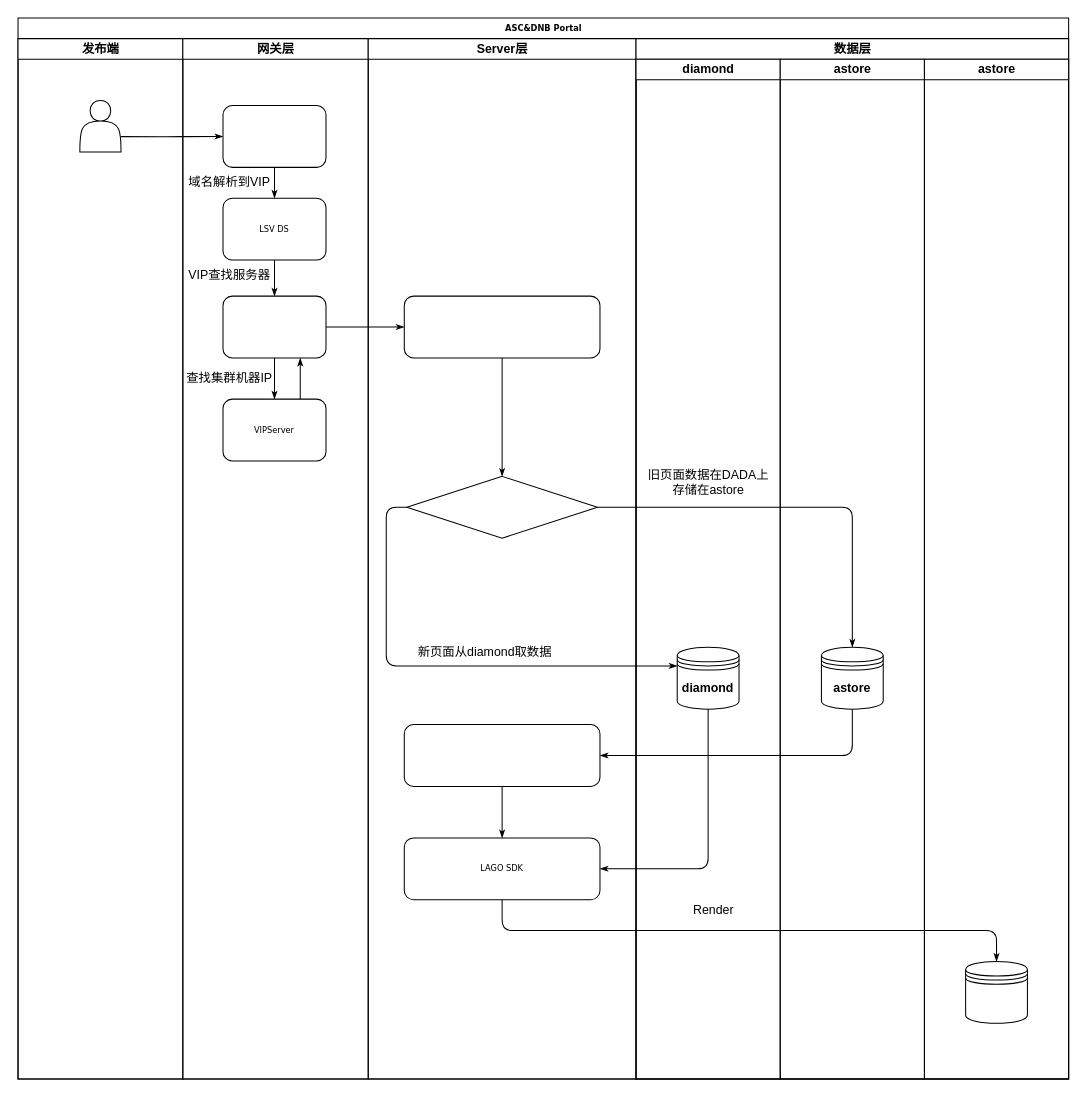
Image size: 1087x1097. Some labels were removed from this diagram. Here are the shapes that lost their labels. From the top down, the centre of each, then its label:
At point 274,136: "ALiDNS".
At point 274,326: "Aserver".
At point 501,326: "NodeJS Server".
At point 501,506: "根据路径 or 白名单 渲染页面".
At point 501,755: "解析DADA Schema （额外处理 多语言）".
At point 996,991: "OSS".
